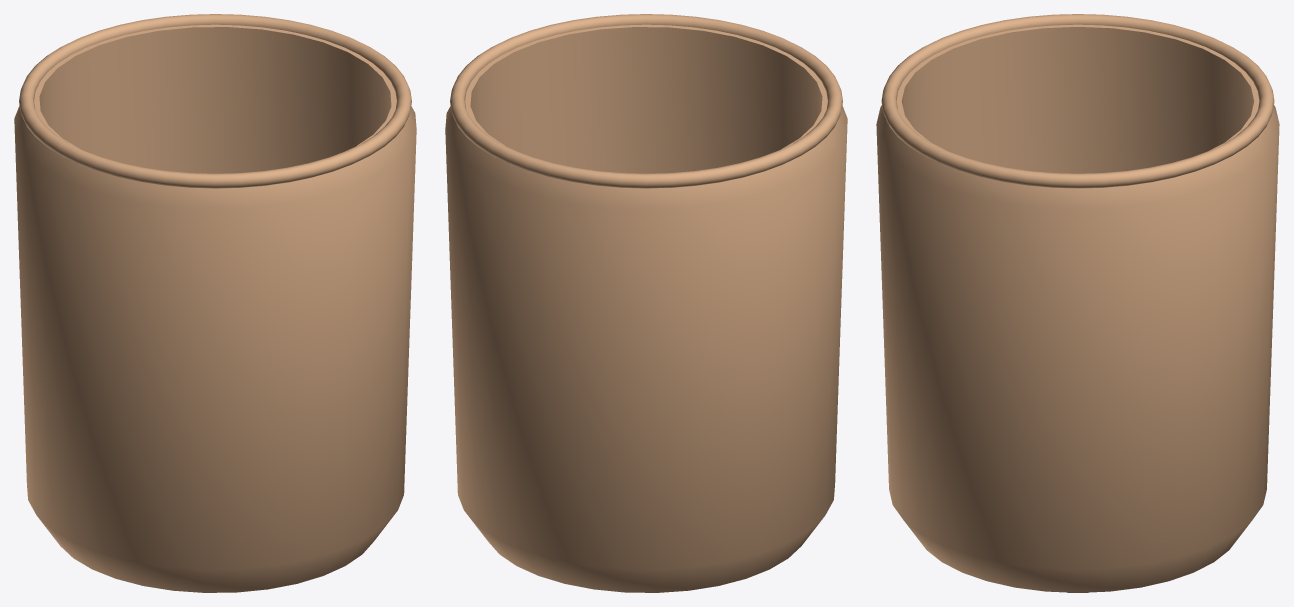
The model's file is chocolate-making-and-confectionery-husk-collection-bin-82852557__39136.glb.
The picture shows the model from 3 angles, left to right: view 1: azimuth 30°, elevation 25°; view 2: azimuth 150°, elevation 25°; view 3: azimuth 270°, elevation 25°; orthographic projection.
Visible parts, largest first — view 1: husk-collection-bin; view 2: husk-collection-bin; view 3: husk-collection-bin.
Boxes of the visible parts, left/top/right/bottom form: husk-collection-bin: left=14, top=14, right=416, bottom=592; husk-collection-bin: left=445, top=14, right=847, bottom=592; husk-collection-bin: left=876, top=14, right=1279, bottom=592.
Size of the model in its own units: 0.6401 by 0.7714 by 0.6401.
